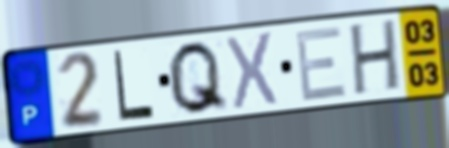2: (54, 49, 106, 134)
E: (293, 23, 350, 105)
H: (348, 16, 402, 99)
L: (111, 48, 157, 124)
Q: (165, 38, 231, 118)
X: (223, 29, 280, 113)
